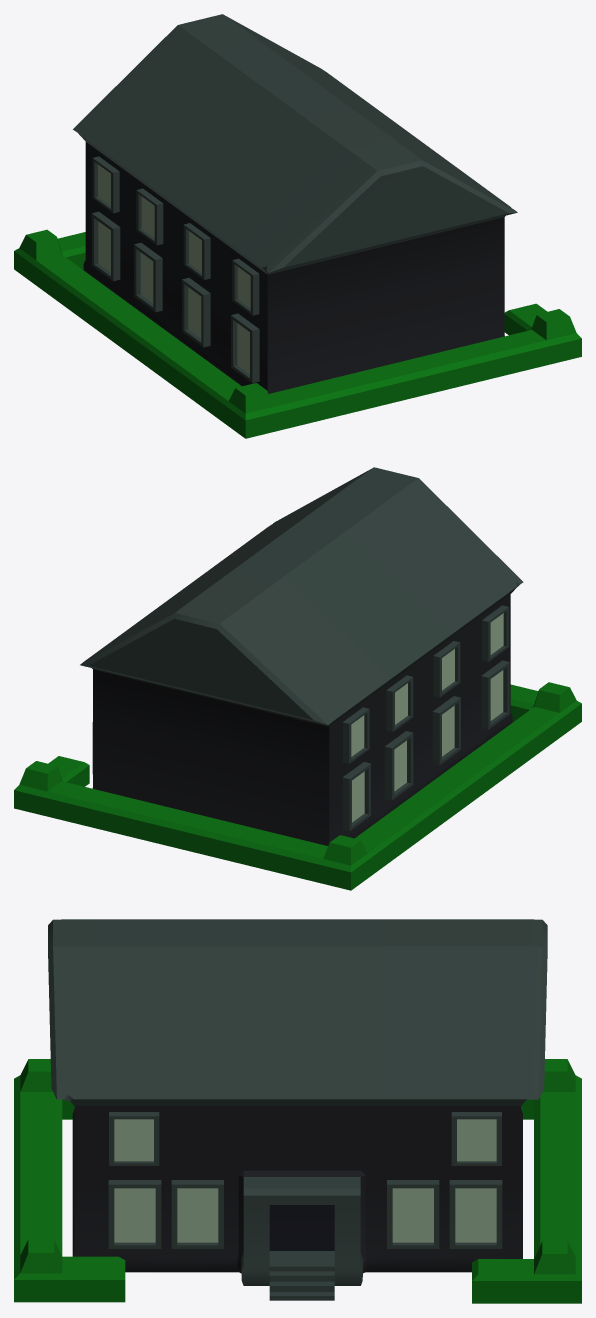
Rendered from Clean_suburb_1.FBX.
3 renders of one model, top to bottom at view 1: azimuth 30°, elevation 25°; view 2: azimuth 150°, elevation 25°; view 3: azimuth 270°, elevation 25°, orthographic. The views are drawn at different scales.
Parts seen in each view (by area): view 1: Box018, Box021, Box020; view 2: Box018, Box021, Box020; view 3: Box018, Box021, Box019.
Boxes of the visible parts, x1,y1,x2,y2 form: Box018: (73,14,517,393); Box021: (14,229,581,438); Box020: (91,156,259,382); Box018: (80,467,523,845); Box021: (14,682,581,890); Box020: (342,605,509,831); Box018: (48,919,547,1300); Box021: (14,1059,581,1303); Box019: (108,1112,502,1248).
Size of the model in its own units: 6.41 by 4.01 by 7.6.
